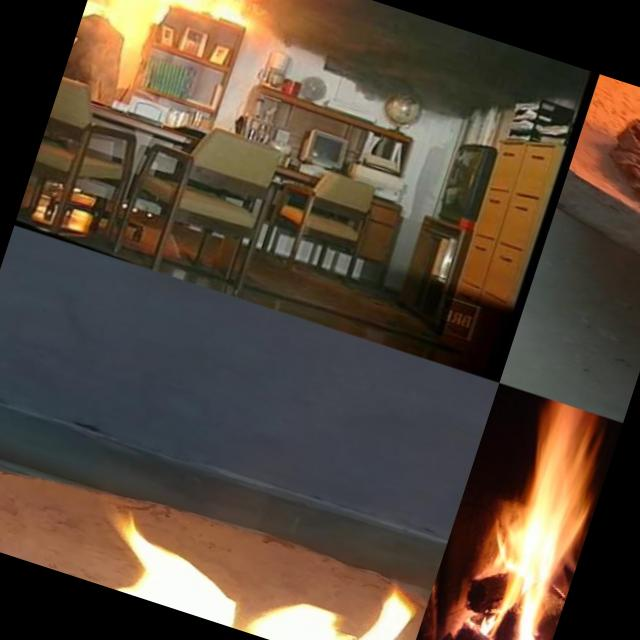fire: (0, 436, 433, 640), (450, 396, 622, 640), (94, 0, 265, 28)
